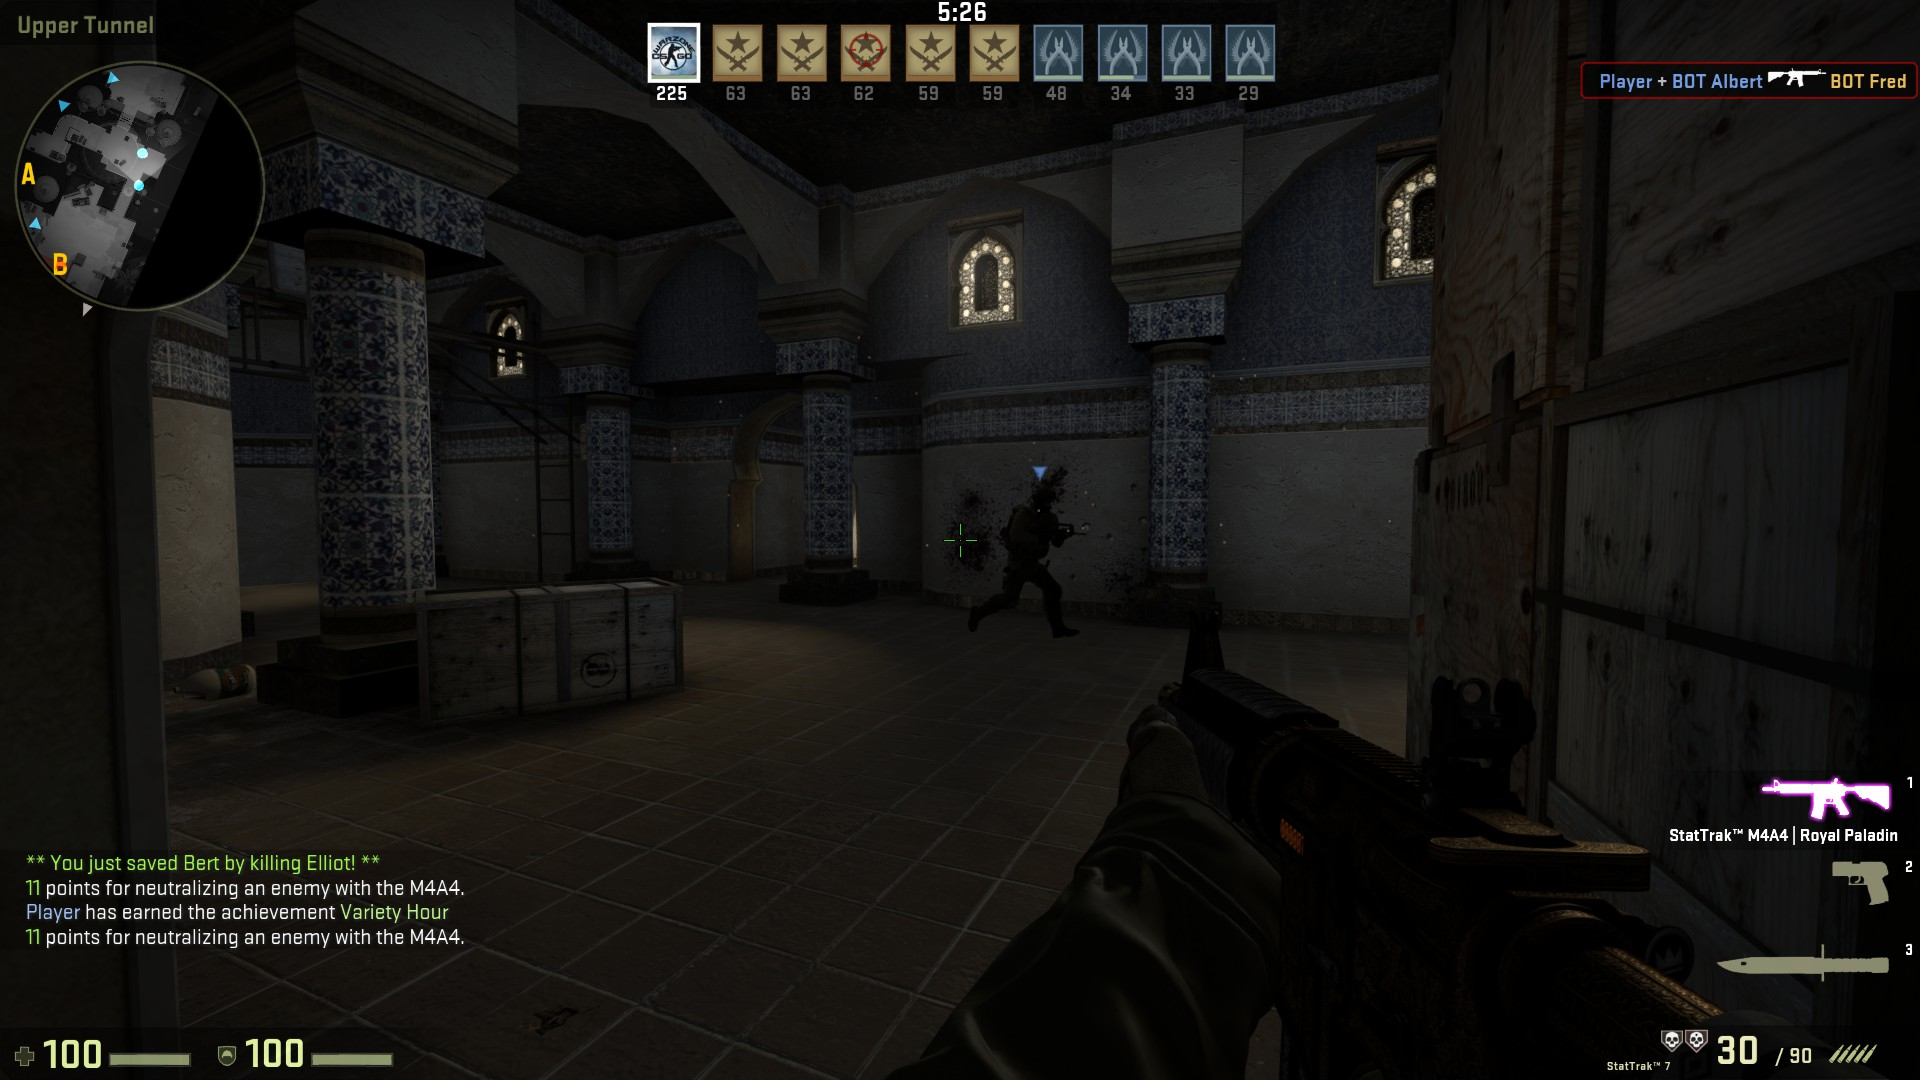c: (993, 485, 1068, 642)
ch: (1027, 484, 1060, 516)
